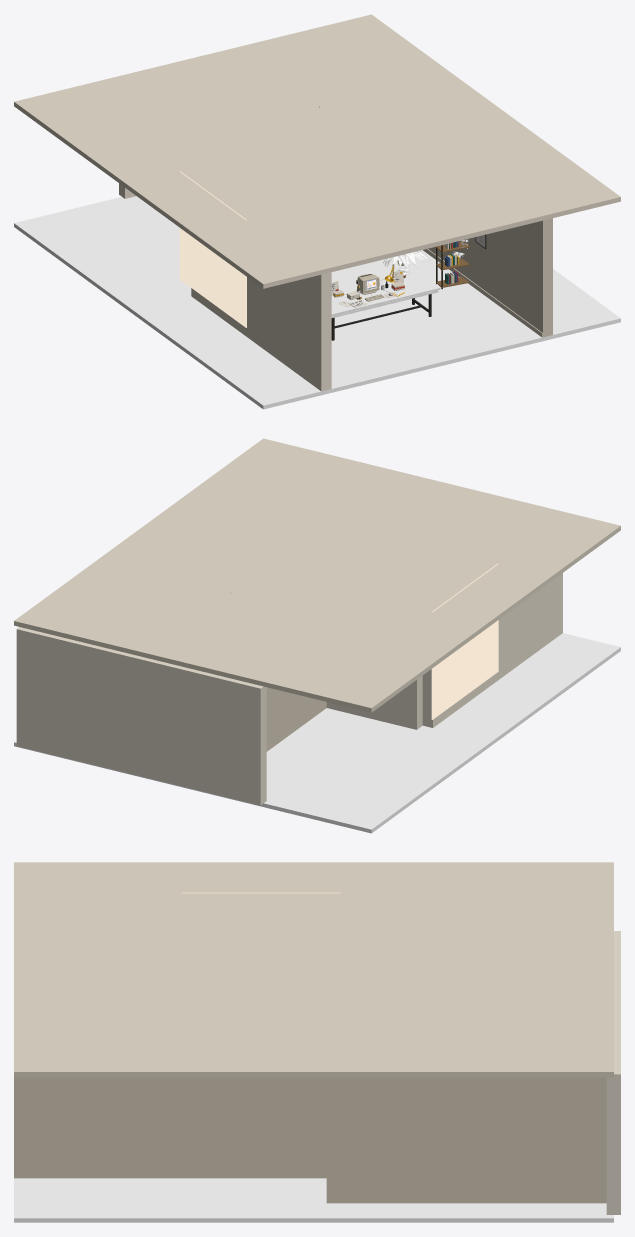
File: clover-studio.glb
3 renders of one model, top to bottom at view 1: azimuth 30°, elevation 25°; view 2: azimuth 150°, elevation 25°; view 3: azimuth 270°, elevation 25°, orthographic. The views are drawn at different scales.
Parts seen in each view (by area): view 1: Ceiling, Floor, Left_Front, RightWall, Win_Sky, Desk_Top, Skirt_Right; view 2: Ceiling, Back_EndWall, Floor, Left_Front, Win_Sky, Back_LeftWall, BackWall_0, Left_Back; view 3: Ceiling, Back_RightWall, RightWall, Floor, Back_EndWall.
Boxes of the visible parts, x1,y1,x2,y2 form: Ceiling: [14, 14, 620, 288]; Floor: [14, 196, 620, 409]; Left_Front: [239, 272, 331, 391]; RightWall: [428, 218, 552, 337]; Win_Sky: [179, 171, 246, 327]; Desk_Top: [331, 271, 440, 315]; Skirt_Right: [423, 249, 542, 337]; Ceiling: [14, 438, 620, 712]; Back_EndWall: [16, 627, 266, 805]; Floor: [14, 633, 620, 833]; Left_Front: [480, 573, 562, 692]; Win_Sky: [431, 563, 498, 719]; Back_LeftWall: [266, 687, 326, 751]; BackWall_0: [326, 676, 422, 729]; Left_Back: [422, 669, 439, 727]; Ceiling: [14, 862, 613, 1077]; Back_RightWall: [326, 1077, 606, 1203]; RightWall: [14, 1077, 326, 1178]; Floor: [14, 1178, 613, 1222]; Back_EndWall: [606, 931, 620, 1214].
Bounding box in the file's own units: 9.77 × 3.29 × 11.94.
